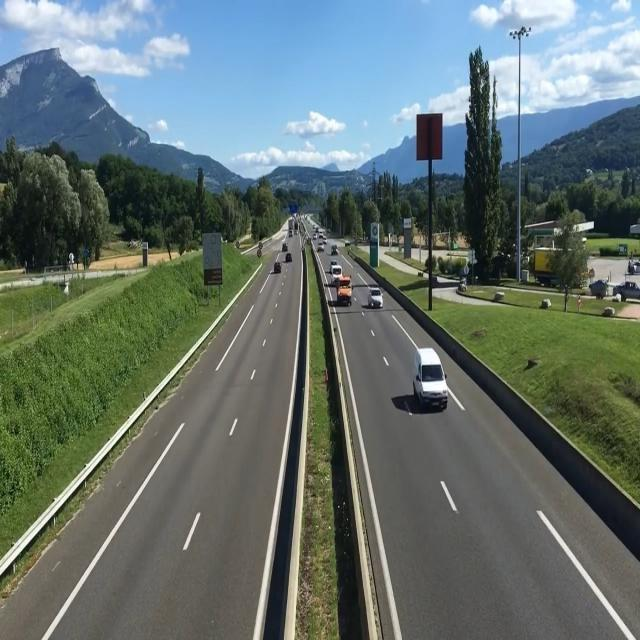Car: (368, 286, 385, 309), (273, 259, 282, 272), (331, 242, 339, 254), (317, 243, 326, 253), (328, 260, 337, 269), (281, 242, 288, 253), (284, 252, 291, 262)
Truck: (336, 278, 352, 302)
Van: (412, 343, 448, 408), (331, 265, 343, 280)
